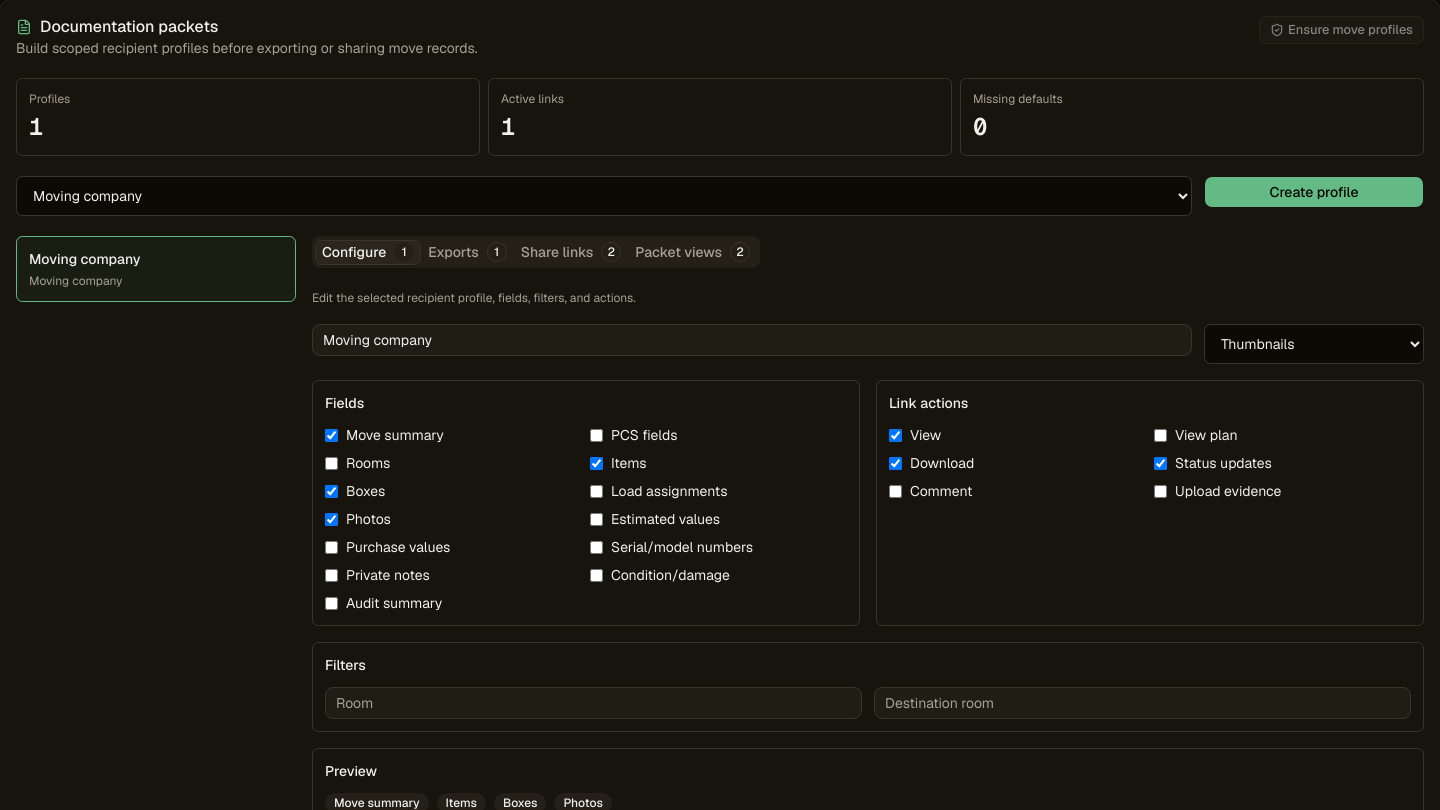
it: DocumentationPacketBuilder task tabs › separates exports, share links, and packet views into their own tasks
Click the tab with aria-label "Exports: 1 export": click(468, 252) [421,240,514,264]
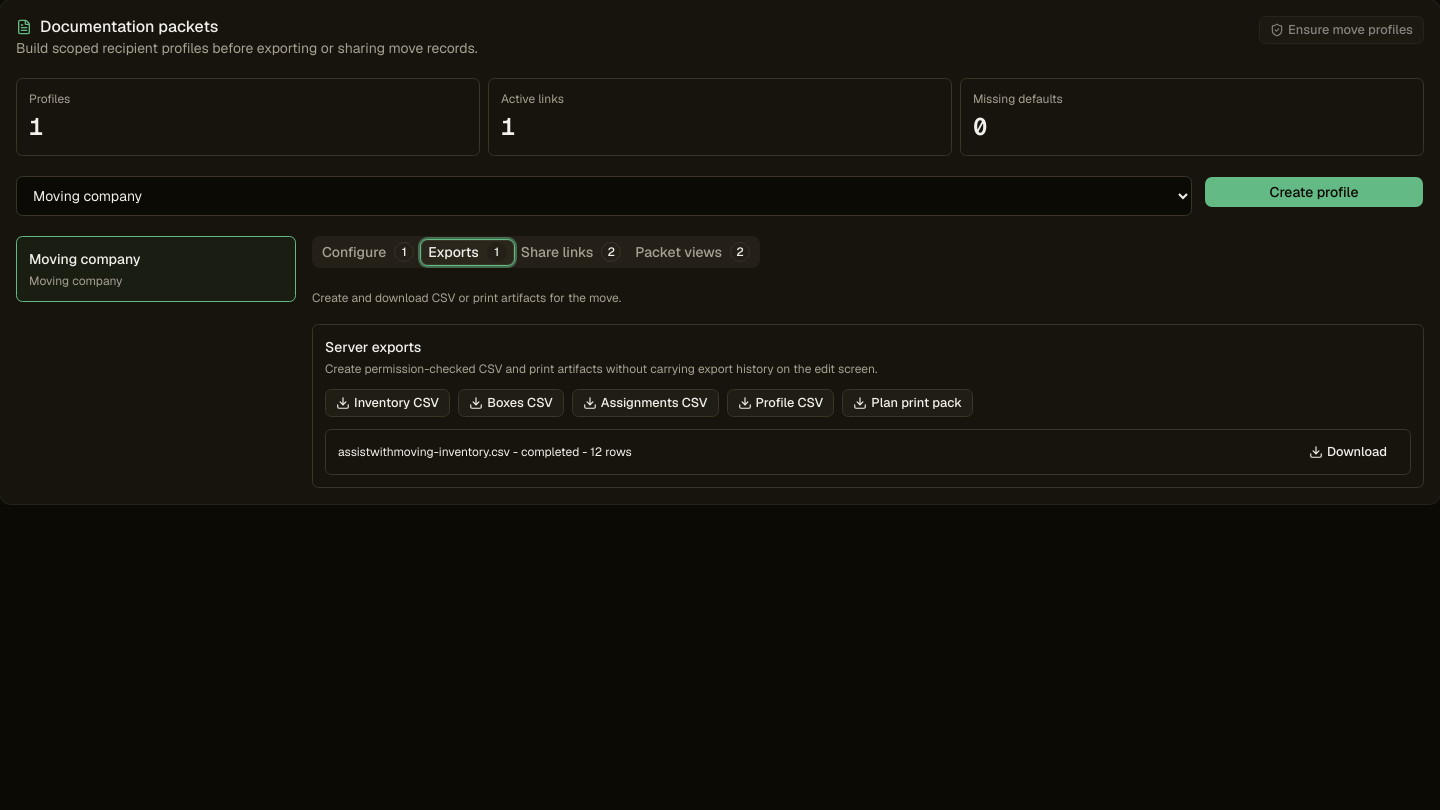
Expected: the text "Create and download CSV or print artifacts for the move." is shown, [312,290,621,306]
Expected: the button "Inventory CSV" is shown, [325,389,450,417]
Expected: the text "assistwithmoving-inventory.csv - completed - 12 rows" is shown, [338,444,632,460]
Click the tab with aria-label "Share links: 2 share records": click(571, 252) [514,240,628,264]
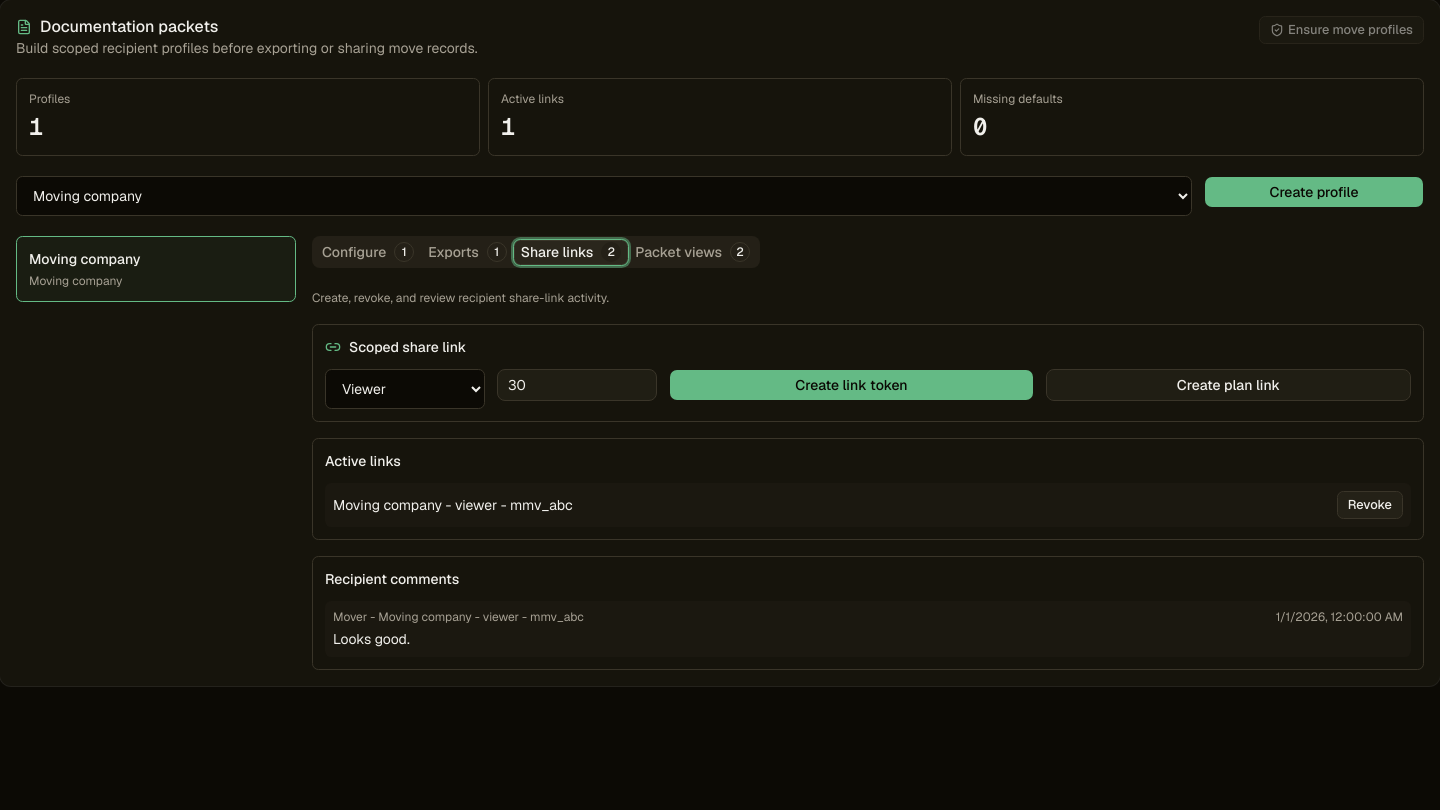
Expected: the text "Create, revoke, and review recipient share-link activity." is shown, [312,290,609,306]
Expected: the button "Create link token" is shown, [669,369,1034,401]
Expected: the heading "Active links" is shown, [325,452,401,470]
Click the tab with aria-label "Packet views: 2 views": click(693, 252) [628,240,757,264]
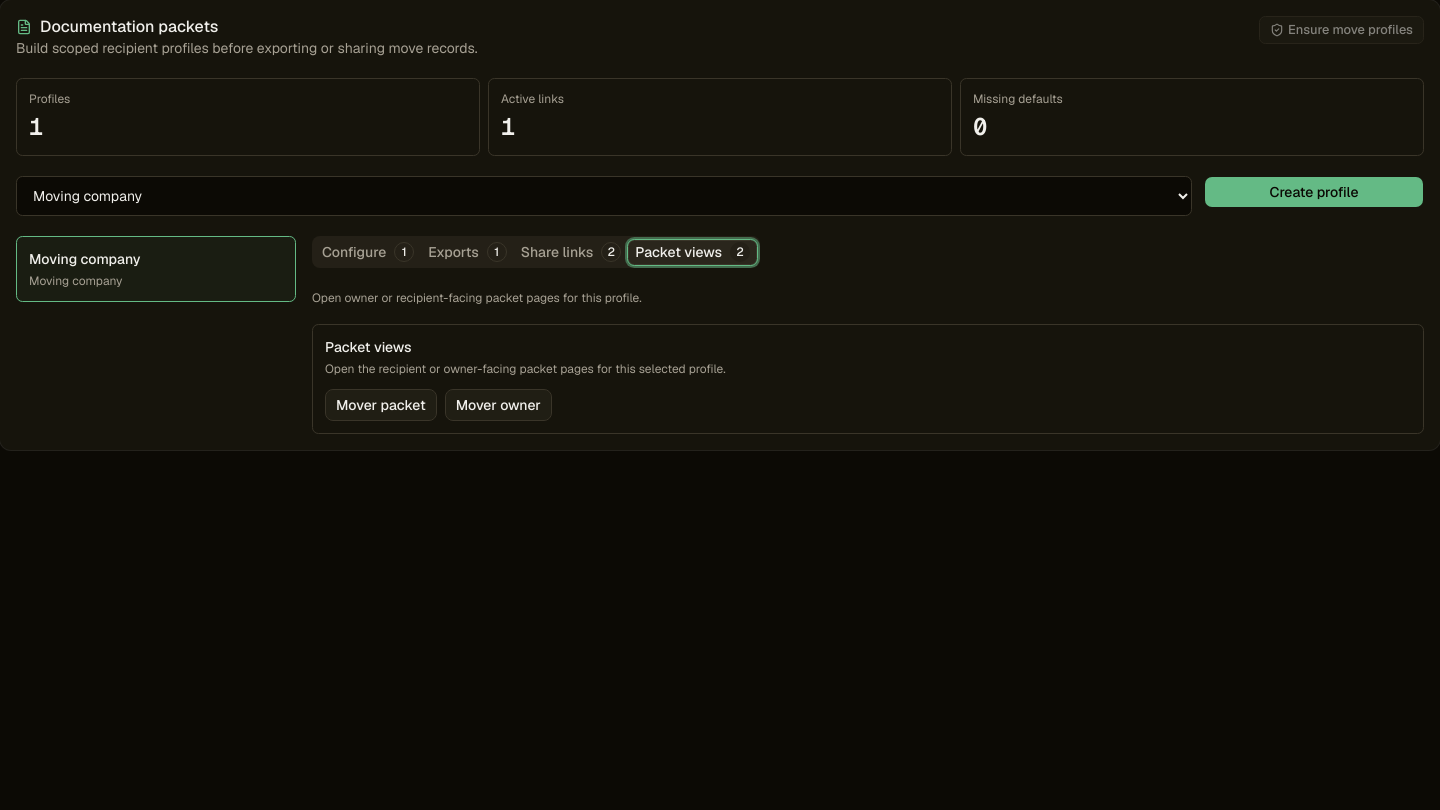
Expected: the text "Open owner or recipient-facing packet pages for this profile." is shown, [312,290,642,306]
Expected: the link "Mover packet" is shown, [325,389,437,421]
Expected: the link "Mover owner" is shown, [445,389,552,421]
